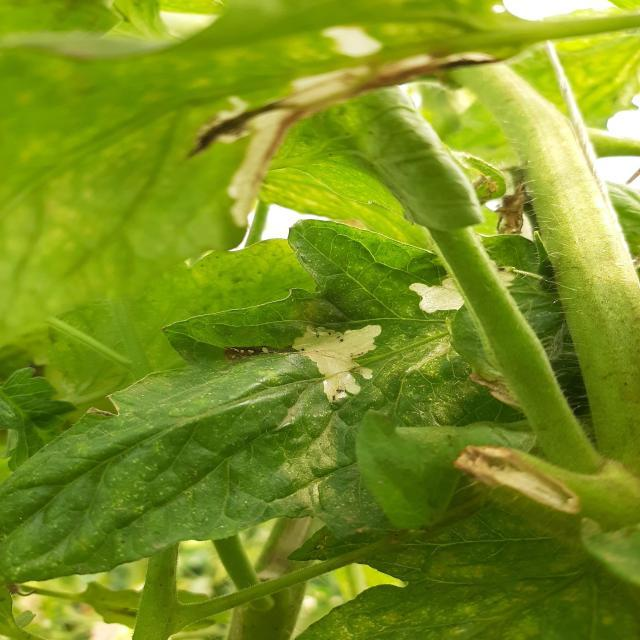Tuta absoluta: (292, 325, 382, 402), (409, 276, 465, 316)
